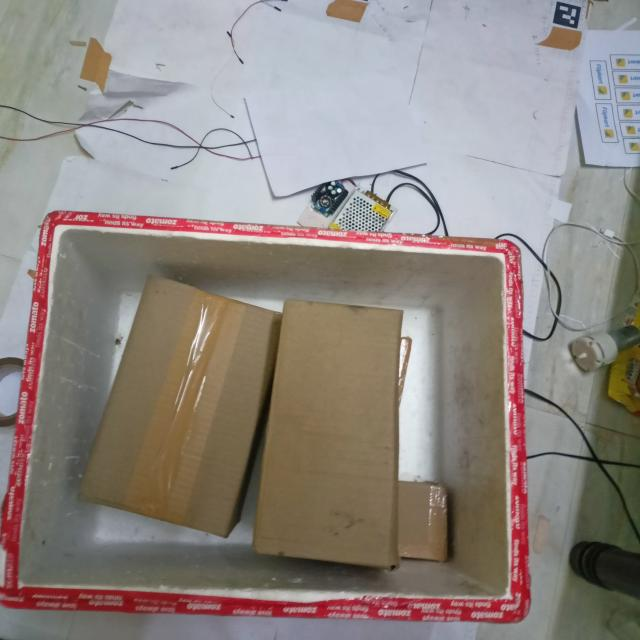box: (76, 281, 274, 540), (249, 303, 402, 564)
